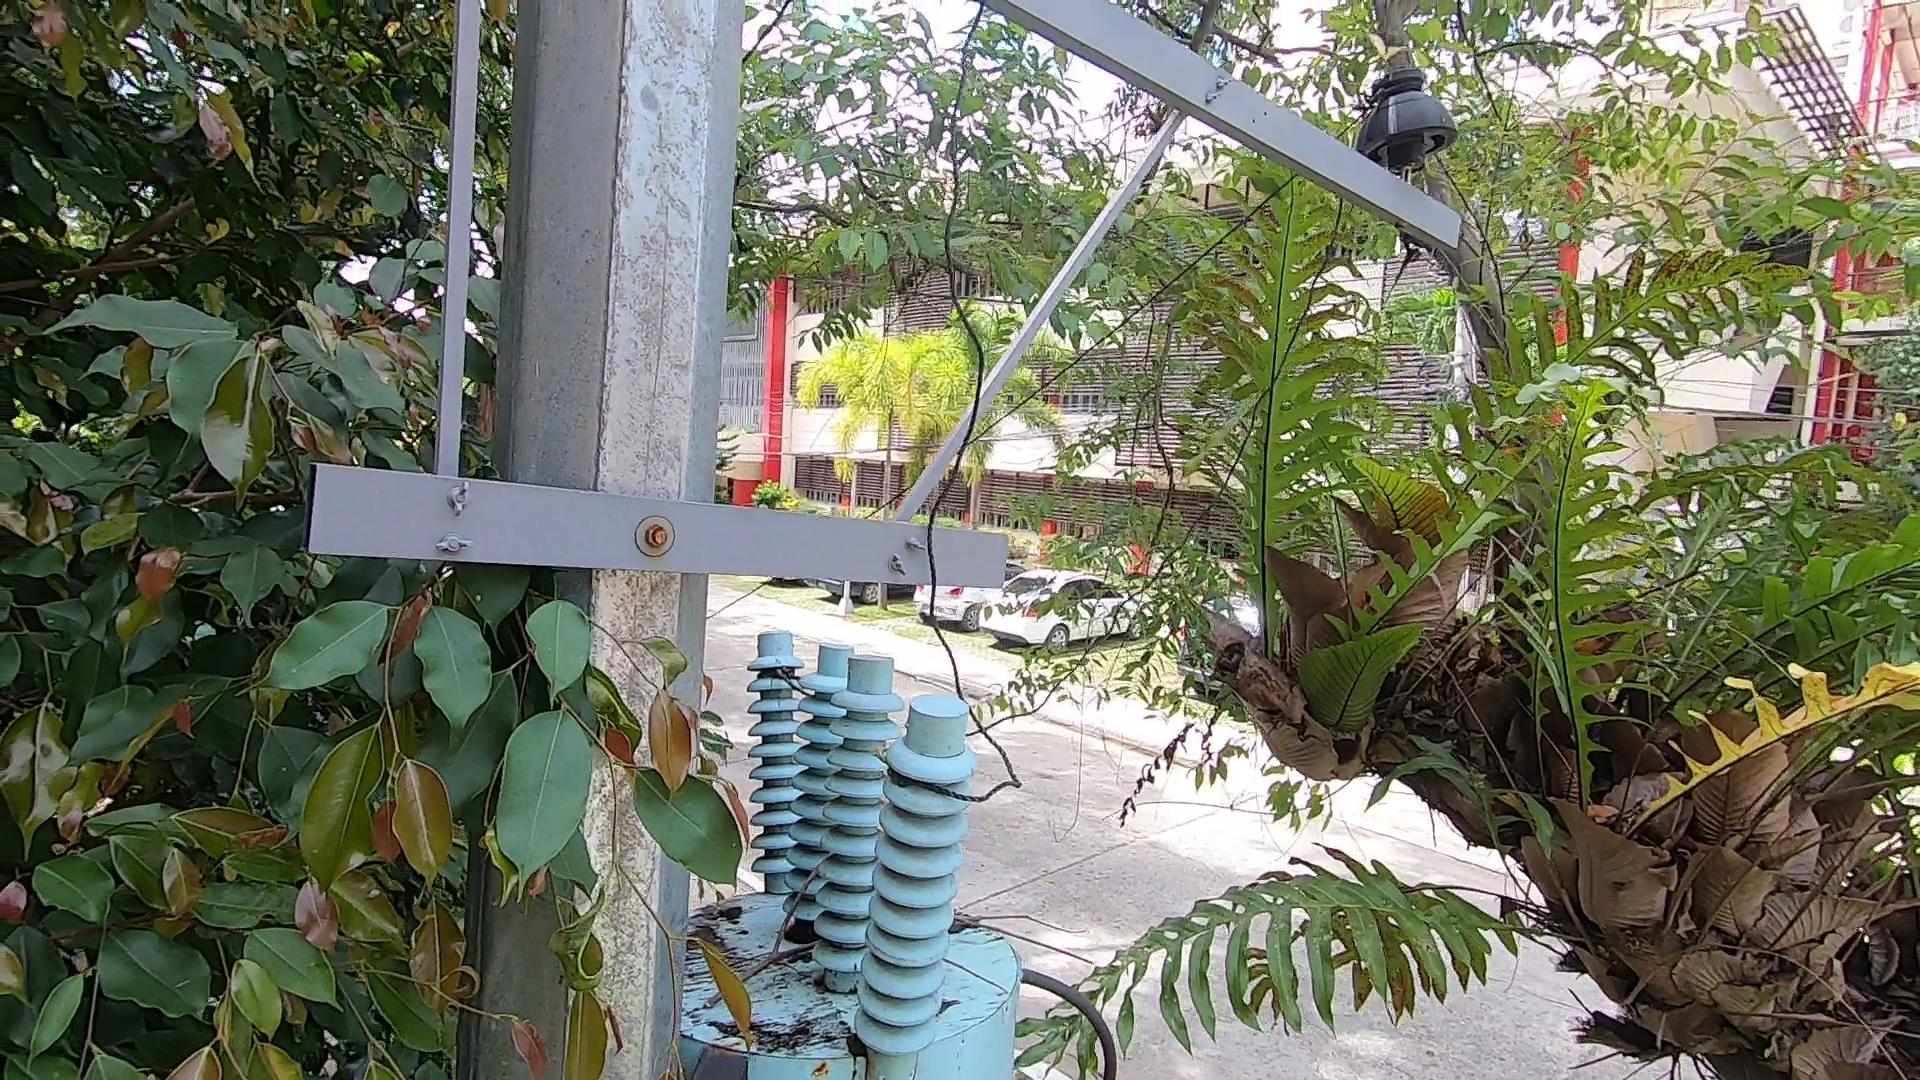branch with leaves: (363, 582, 790, 1071)
leaf: (822, 1025, 891, 1068), (699, 893, 749, 944)
tree branch: (686, 823, 1106, 1044)
